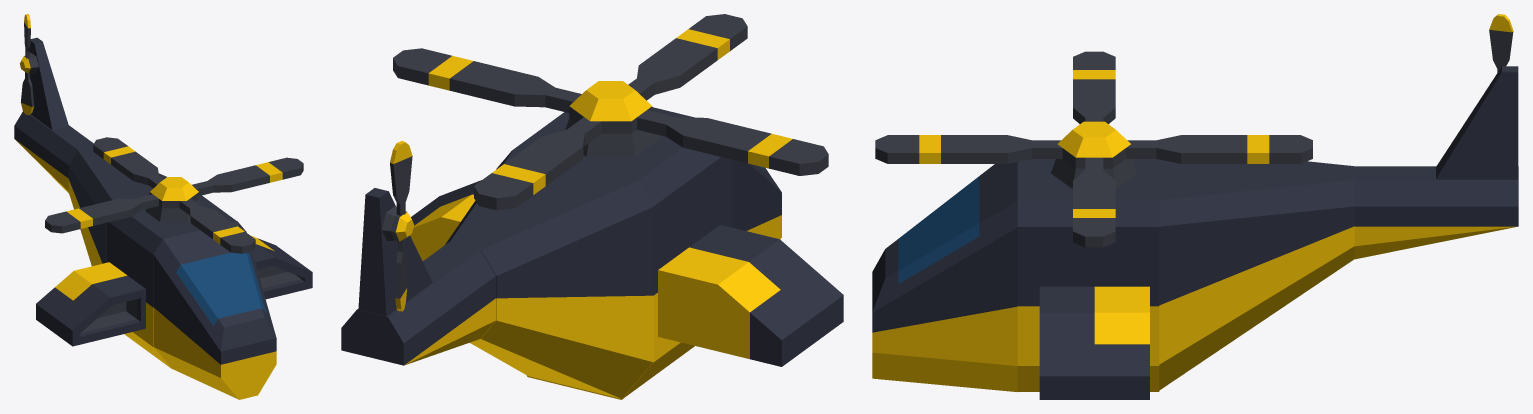
The model's file is Helicopter_01.fbx.
3 views of the same model, side by side, from view 1: azimuth 30°, elevation 25°; view 2: azimuth 150°, elevation 25°; view 3: azimuth 270°, elevation 25° (orthographic). The views are drawn at different scales.
Parts seen in each view (by area): view 1: hull_cockpitPoint, propeller_quad, engine_flat (×2), hull_body, hull_tailTop, hull_tailEdge, rudder, propeller_double%; view 2: hull_tailTop, propeller_quad, engine_flat (×2), hull_body, hull_tailEdge, rudder, hull_cockpitPoint, propeller_double%; view 3: hull_tailTop, hull_cockpitPoint, propeller_quad, hull_body, engine_flat, hull_tailEdge, rudder, propeller_double%.
Part boxes in pixels (x1,y1,x2,y2): hull_cockpitPoint: [153, 221, 276, 399]; propeller_quad: [45, 137, 303, 253]; engine_flat (×2): [36, 236, 312, 346]; hull_body: [106, 195, 236, 368]; hull_tailTop: [68, 146, 166, 334]; hull_tailEdge: [14, 111, 93, 193]; rudder: [29, 37, 68, 129]; propeller_double%: [20, 14, 38, 115]; hull_tailTop: [445, 150, 653, 399]; propeller_quad: [393, 14, 828, 210]; engine_flat (×2): [410, 180, 843, 366]; hull_body: [496, 107, 732, 399]; hull_tailEdge: [341, 242, 495, 365]; rudder: [358, 188, 432, 316]; hull_cockpitPoint: [732, 159, 781, 239]; propeller_double%: [382, 141, 413, 311]; hull_tailTop: [1157, 159, 1354, 390]; hull_cockpitPoint: [872, 162, 1017, 392]; propeller_quad: [875, 51, 1312, 247]; hull_body: [1017, 159, 1159, 391]; engine_flat: [1039, 286, 1149, 399]; hull_tailEdge: [1354, 166, 1518, 259]; rudder: [1436, 66, 1518, 179]; propeller_double%: [1489, 14, 1513, 72].
Size of the model in its own units: 20 by 17.55 by 29.55.
